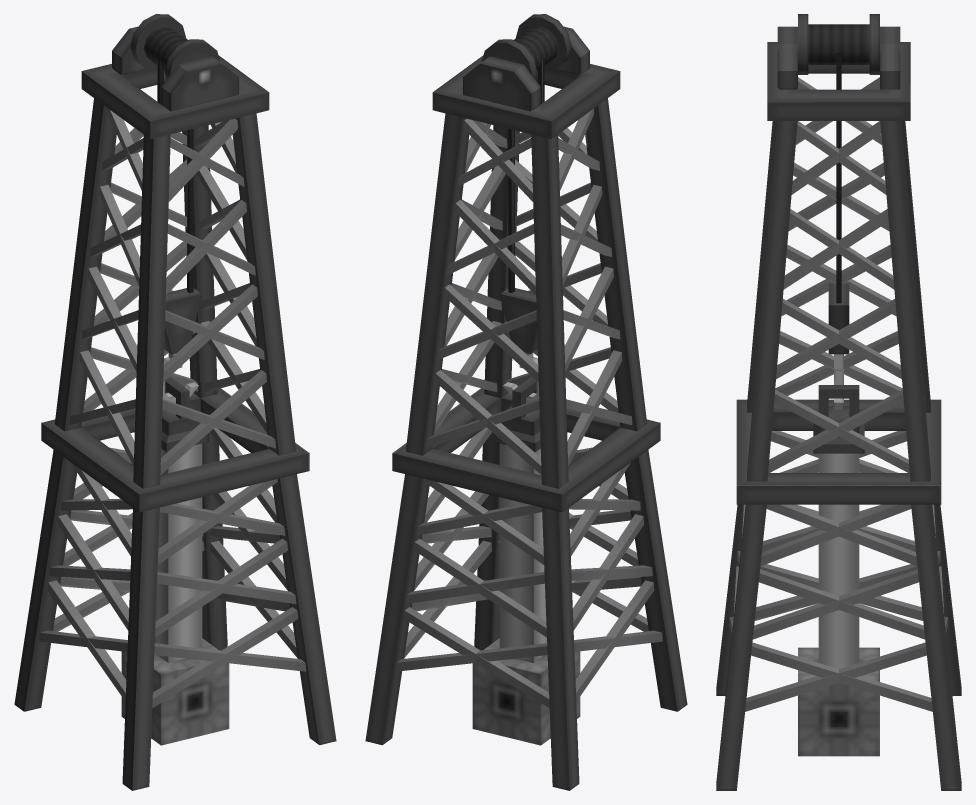
File: derrick.obj
The picture shows the model from 3 angles, left to right: view 1: azimuth 30°, elevation 25°; view 2: azimuth 150°, elevation 25°; view 3: azimuth 270°, elevation 25°; orthographic projection. The views are drawn at different scales.
Visible parts, largest first — view 1: Plane; view 2: Plane; view 3: Plane.
Part boxes in pixels (x1,y1,x2,y2): Plane: (14, 14, 336, 790); Plane: (365, 14, 687, 790); Plane: (716, 14, 961, 790).
Size of the model in its own units: 3 by 9.75 by 3.
